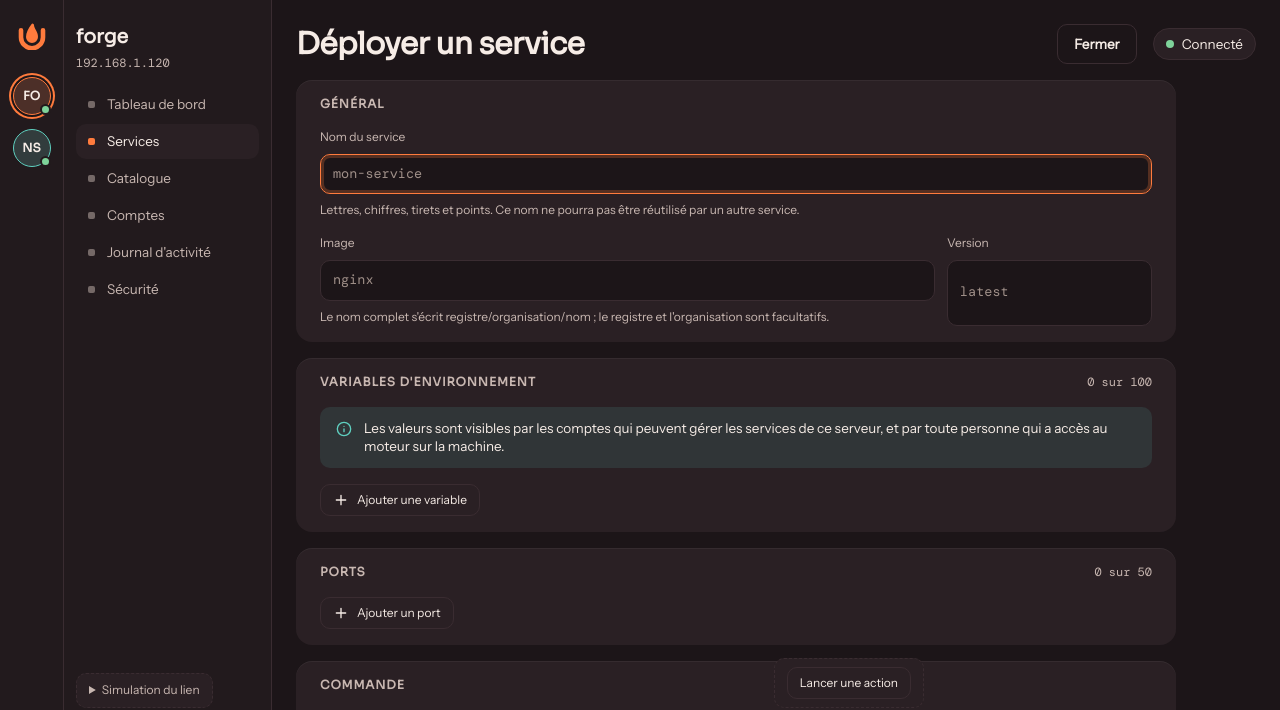
Test: le formulaire (BR-DEPLOY-002 à 007, 014) › déplace la version écrite dans l'image vers le champ Version et le dit (BR-DEPLOY-005)
Step 1. Type "nginx:1.27" into the field labelled "Image" → (628, 281), box [321, 261, 934, 300]
Wait 450 ms
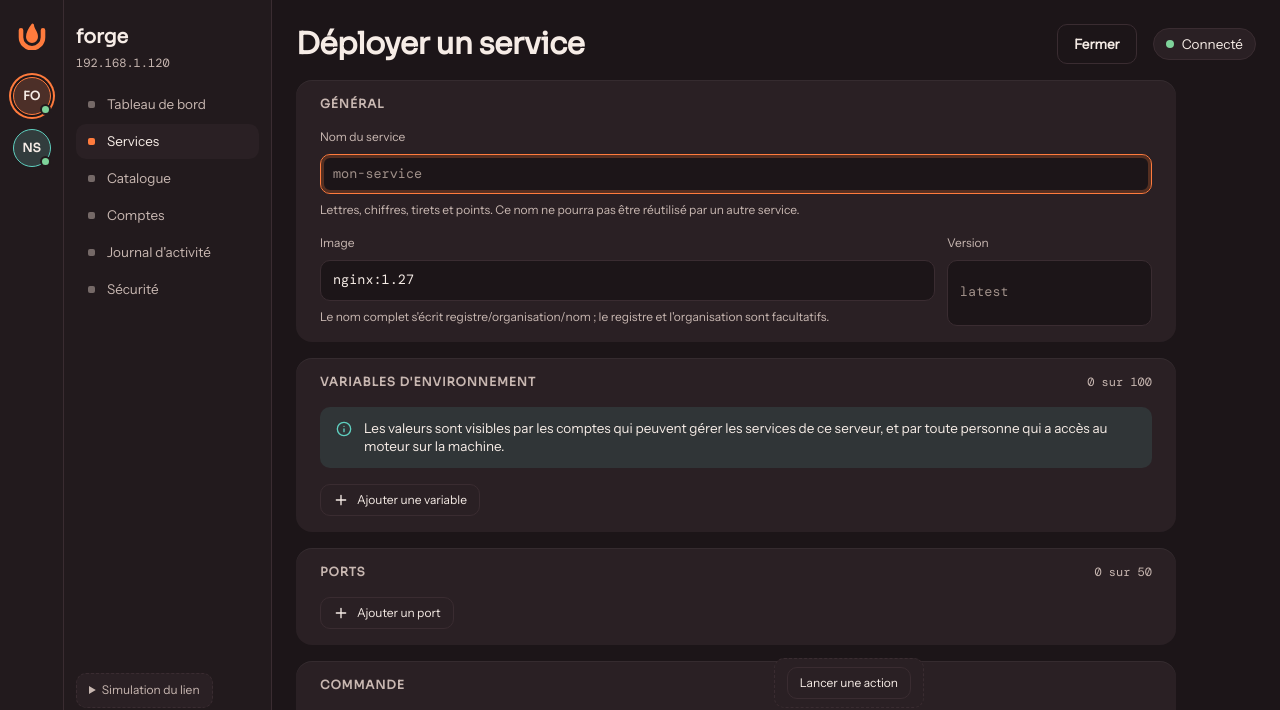
Step 2. Leave the field labelled "Image", box [321, 261, 934, 300]
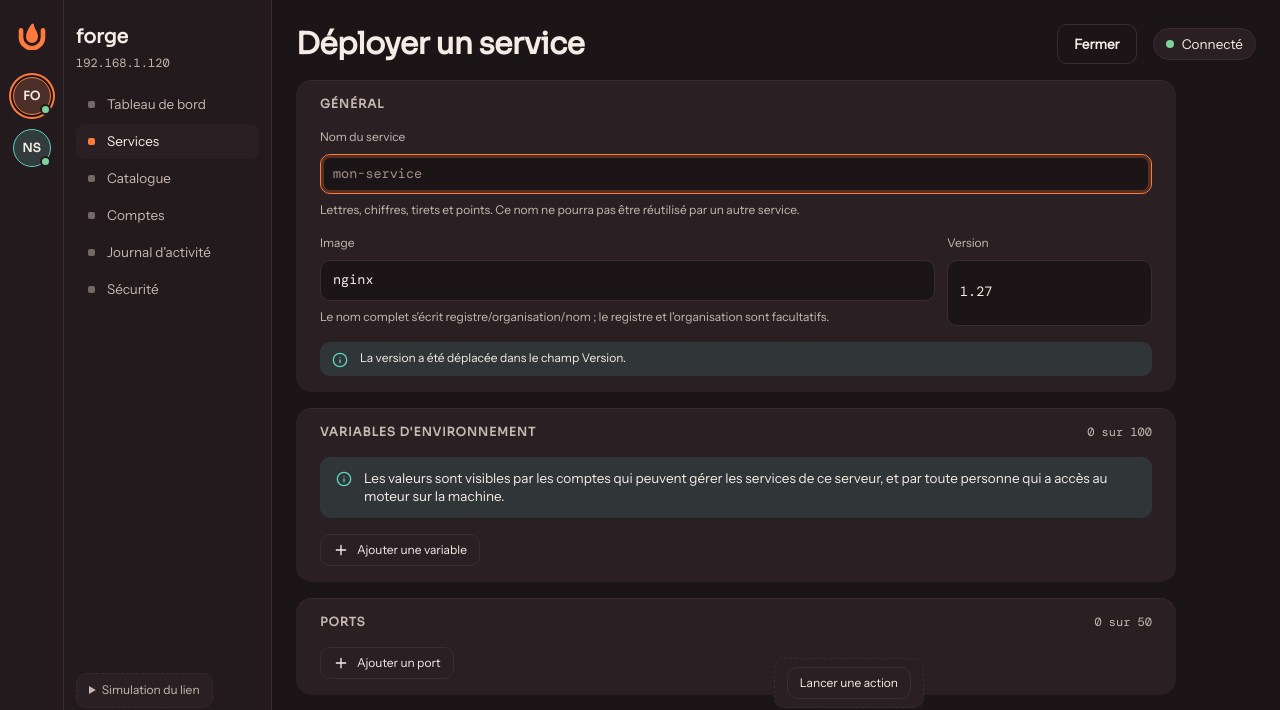
expect the field labelled "Image" holds "nginx": met, box [321, 261, 934, 300]
expect the field labelled "Version" holds "1.27": met, box [948, 274, 1151, 312]
expect the message "La version a été déplacée dans le champ Version." is shown: met, box [320, 342, 1152, 376]
